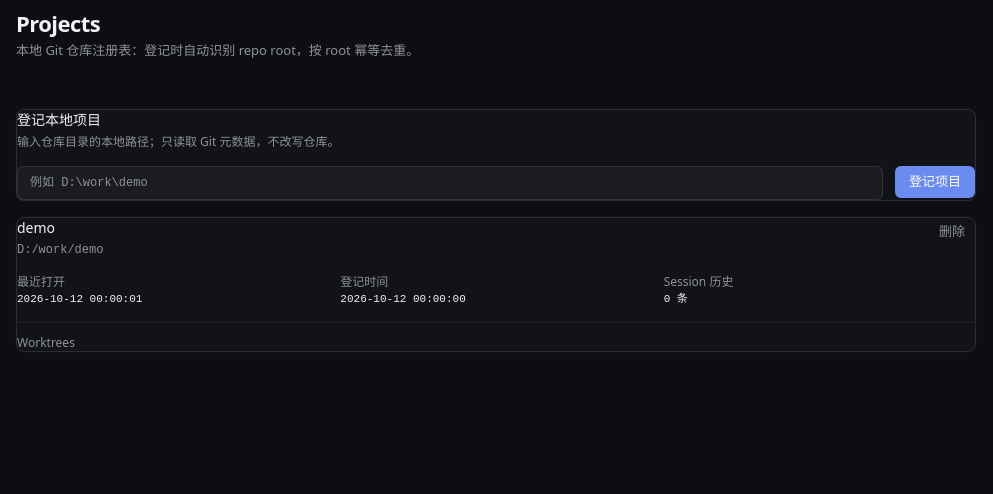
ProjectsPage › Worktrees 区升级（ROADMAP C11） › 每行惰性查询状态：干净显示「干净」，有修改显示「修改 N 项」；主树行没有操作按钮
Check: the element "demo" is shown, box [16, 216, 976, 352]
Click the button "Worktrees" at (46, 343), box [17, 335, 75, 351]
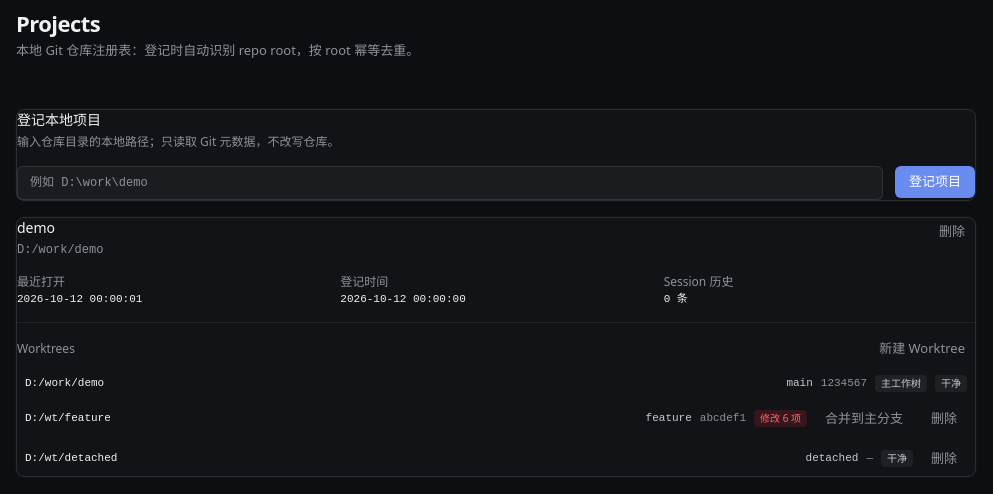
Check: the text "D:/wt/feature" is shown, box [25, 412, 111, 424]
Check: the text "修改 6 项" is shown, box [754, 410, 807, 427]
Check: the button "合并到主分支" is shown, box [815, 404, 913, 432]
